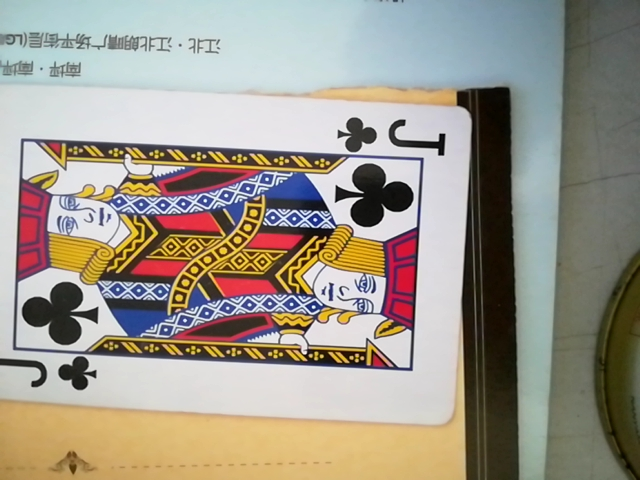mh j: (0, 93, 483, 433)
